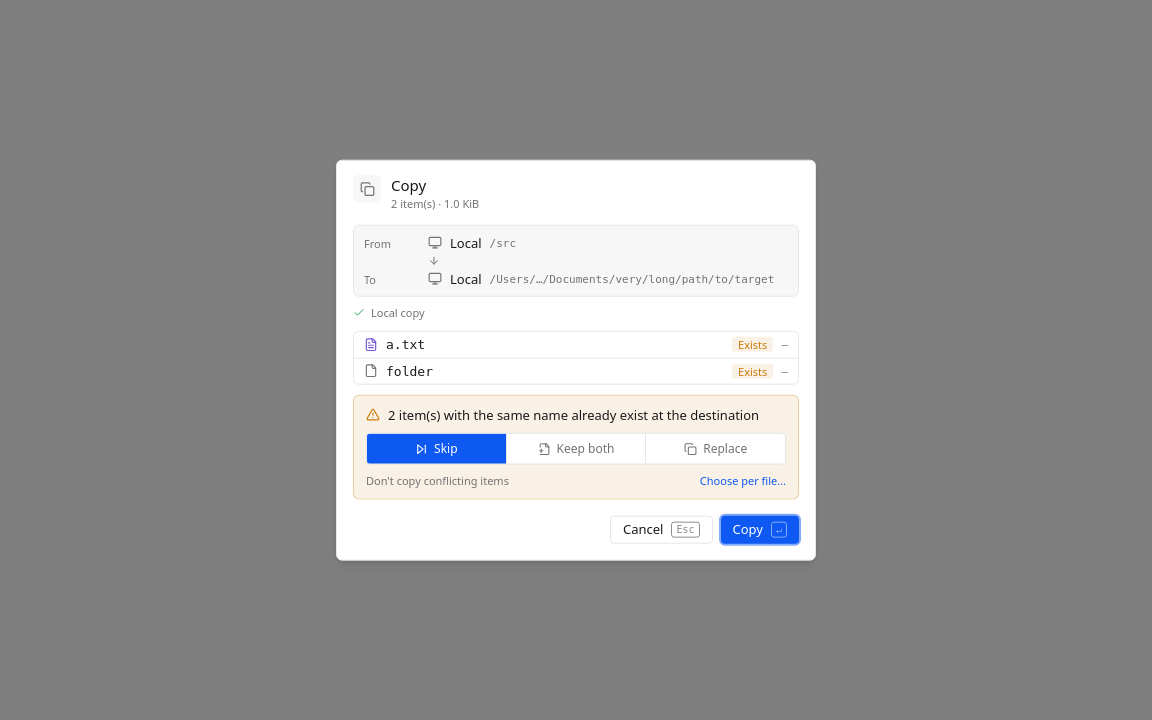
Test: CopyMoveConfirmDialog › 파일/폴더 교체 범위별 경고와 복원 안내 (항목별=false)
The width and height of the screenshot is (1152, 720).
Click the radio button labelled "Replace" at (716,449), box x1=646 y1=434 x2=785 y2=464
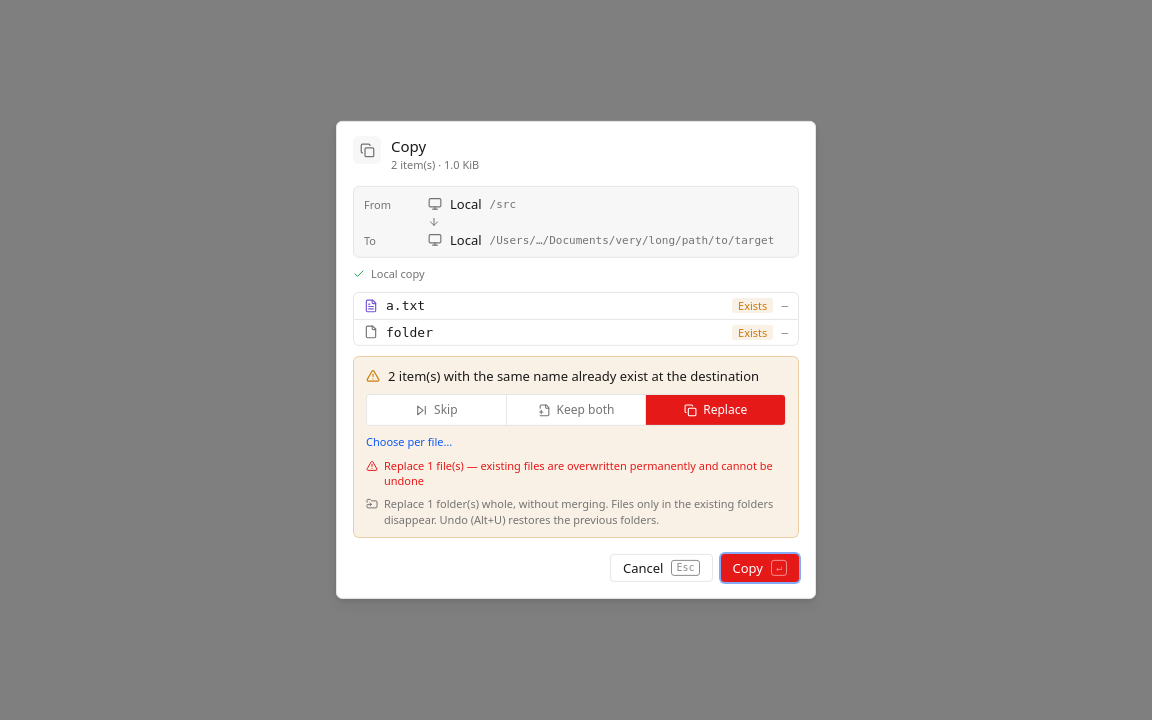
Check: the text "Replace 1 folder(s) whole, without merging" is shown, box x1=384 y1=496 x2=773 y2=527
Check: the text "Alt+U" is shown, box x1=440 y1=512 x2=659 y2=527
Click the radio button labelled "Keep both" at (576,410), box x1=507 y1=395 x2=645 y2=425
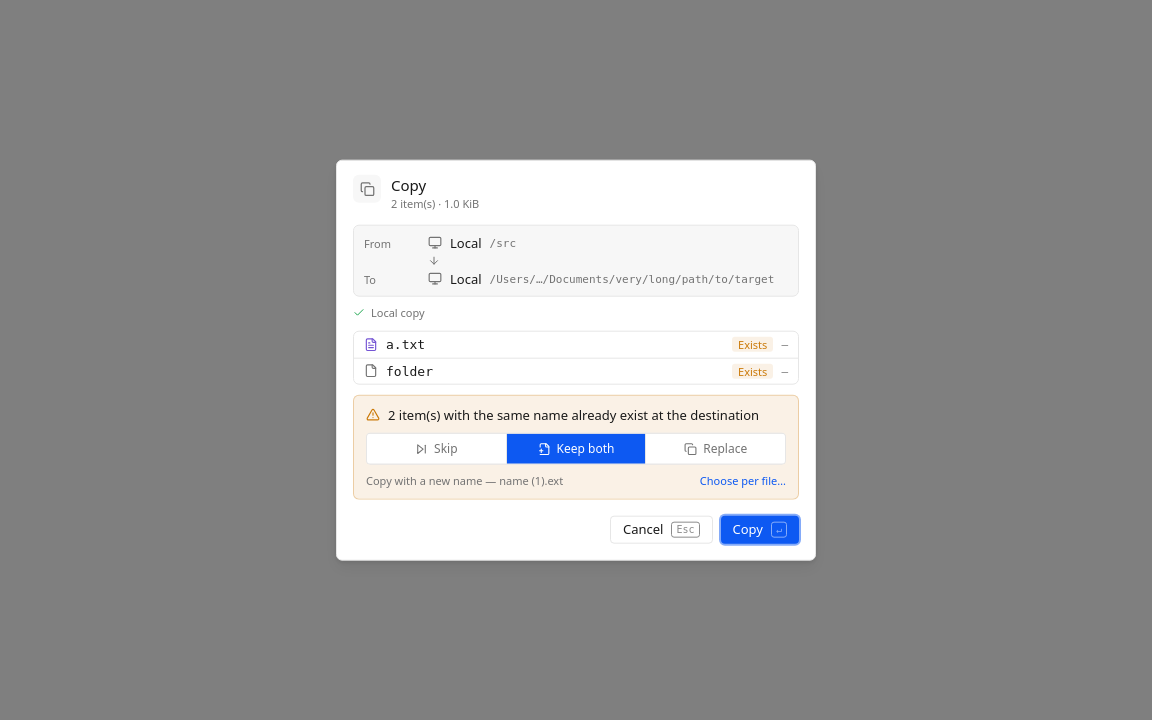
Check: the text "cannot be undone" is gone
Check: the text "whole, without merging" is gone
